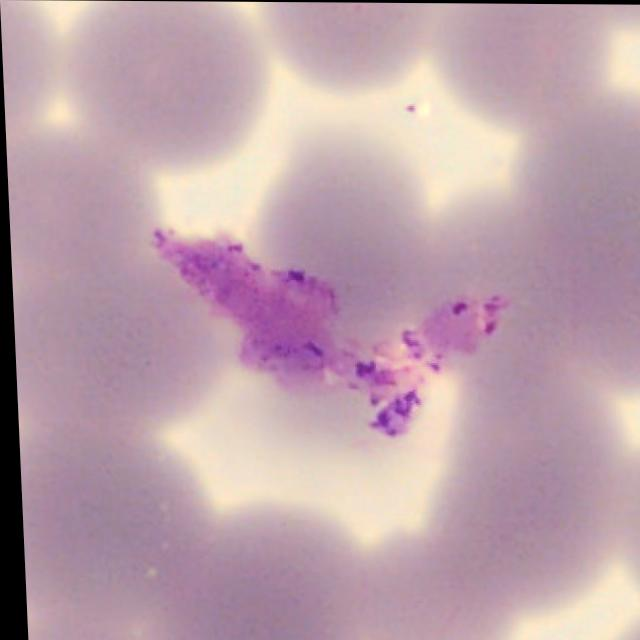Artefato: (149, 229, 506, 438)
